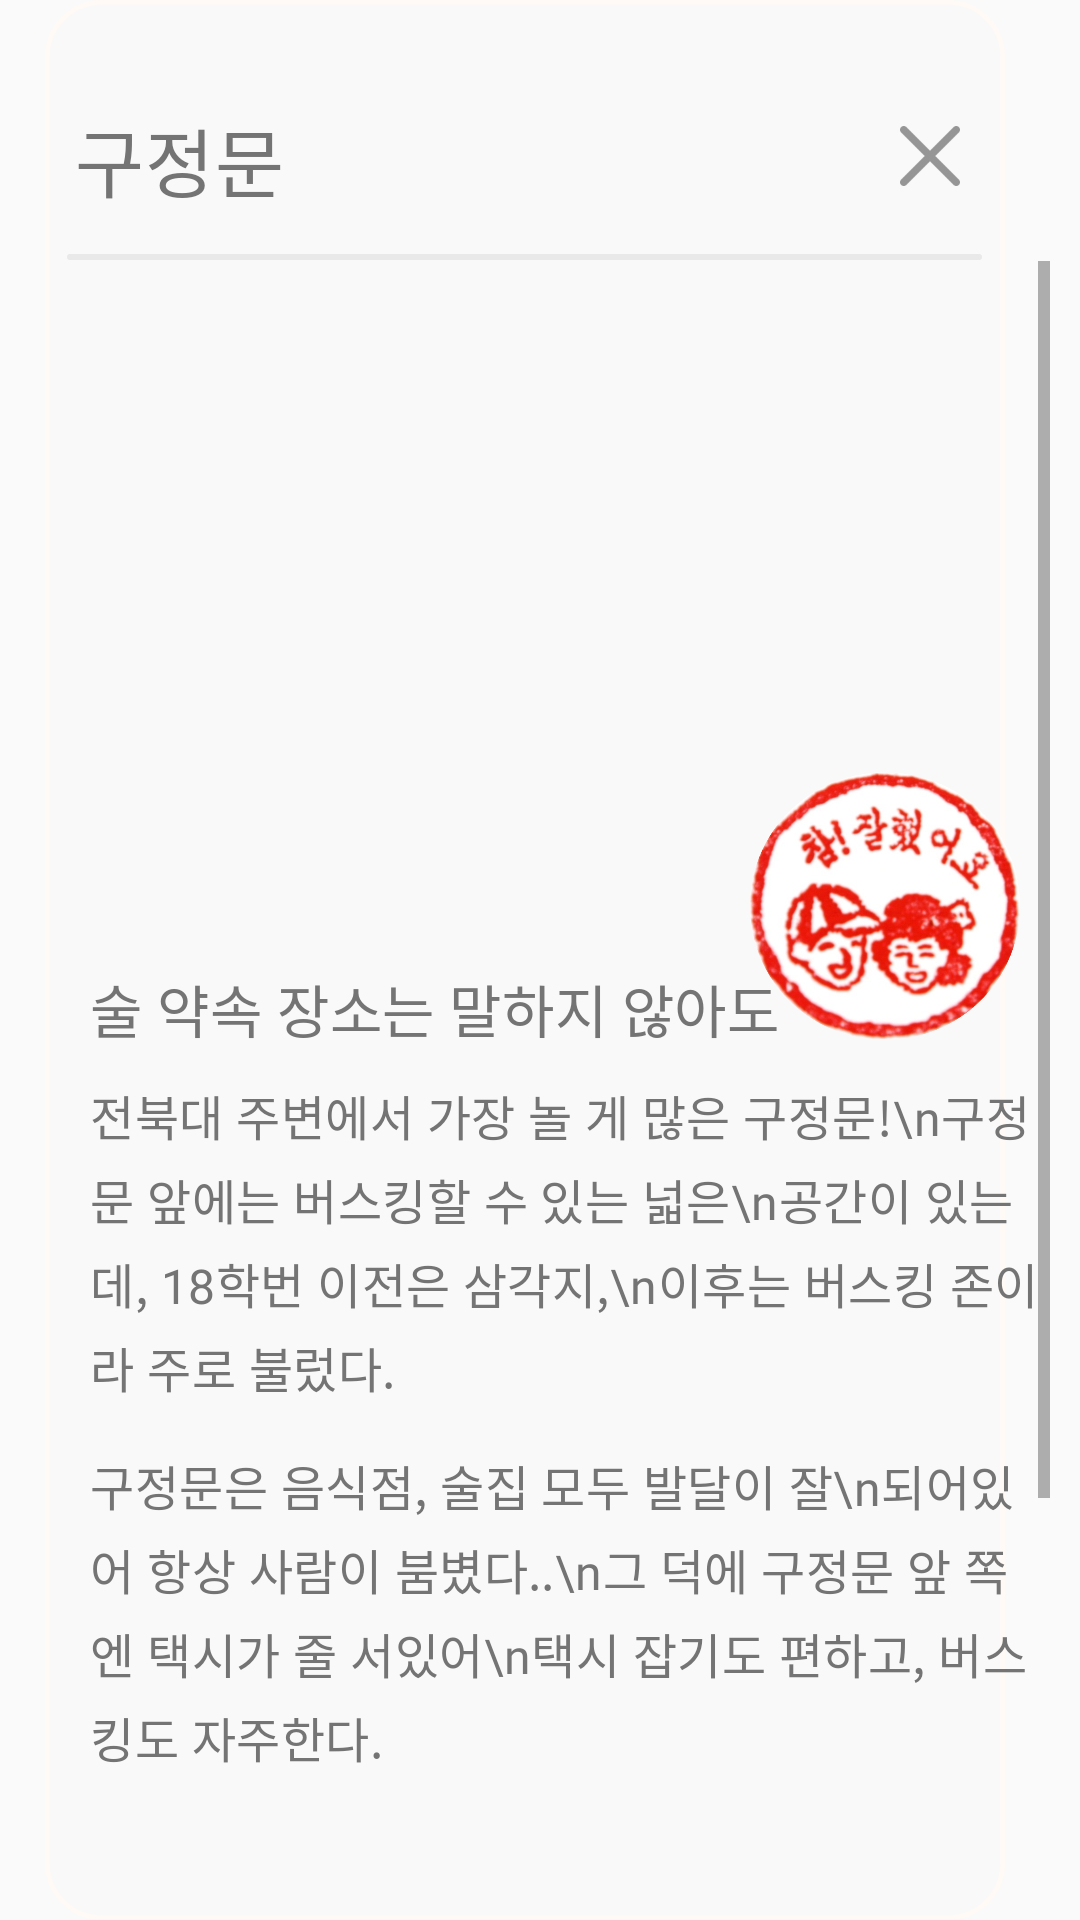

Icon click points for this 1080px x 1920px phone screenshot, format point (x, y):
close: point (930, 156)
